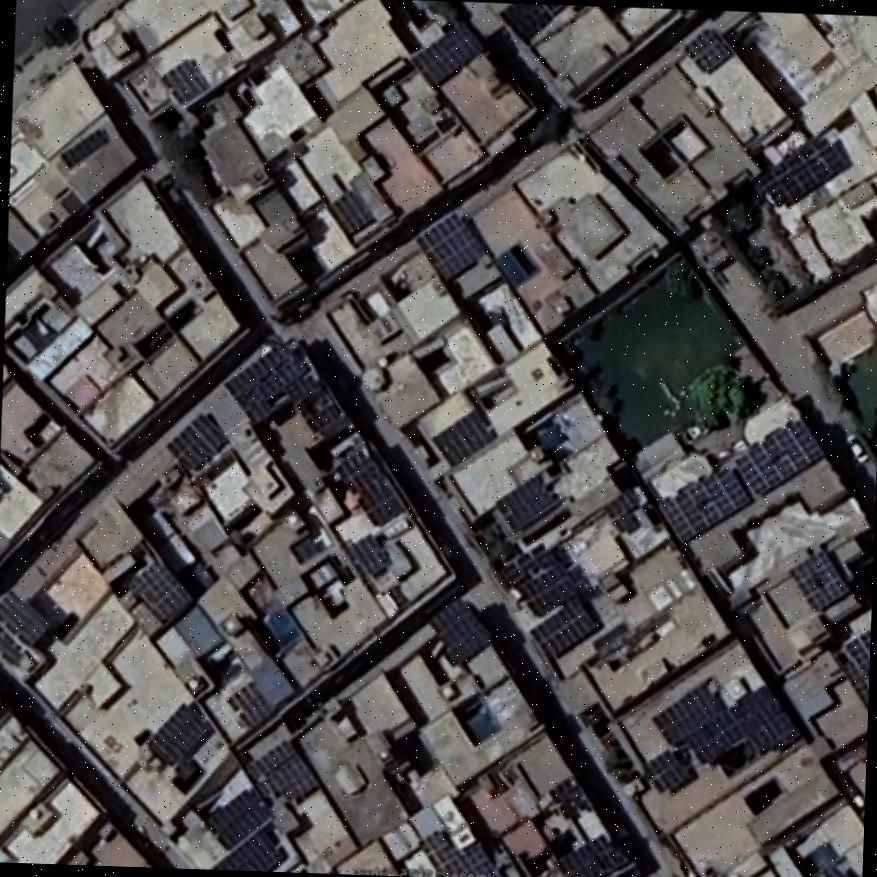Solarpanel: (659, 417, 825, 543), (652, 651, 801, 787), (223, 342, 318, 424), (761, 135, 850, 210), (500, 544, 581, 614), (335, 446, 402, 526), (418, 817, 501, 877), (246, 739, 316, 810), (415, 210, 484, 279), (413, 22, 483, 86), (528, 599, 596, 662), (428, 598, 491, 663), (145, 703, 209, 766), (129, 562, 193, 621), (204, 791, 269, 849), (791, 548, 848, 613), (166, 412, 227, 471), (432, 410, 490, 465), (556, 831, 625, 877), (495, 476, 552, 530), (208, 832, 285, 870), (832, 631, 870, 700), (160, 57, 210, 103), (640, 747, 690, 793), (324, 189, 374, 234), (495, 2, 554, 40), (684, 28, 729, 74), (602, 487, 647, 532), (295, 387, 341, 431), (61, 128, 110, 167), (550, 776, 593, 818), (347, 533, 390, 571), (809, 860, 849, 877)
